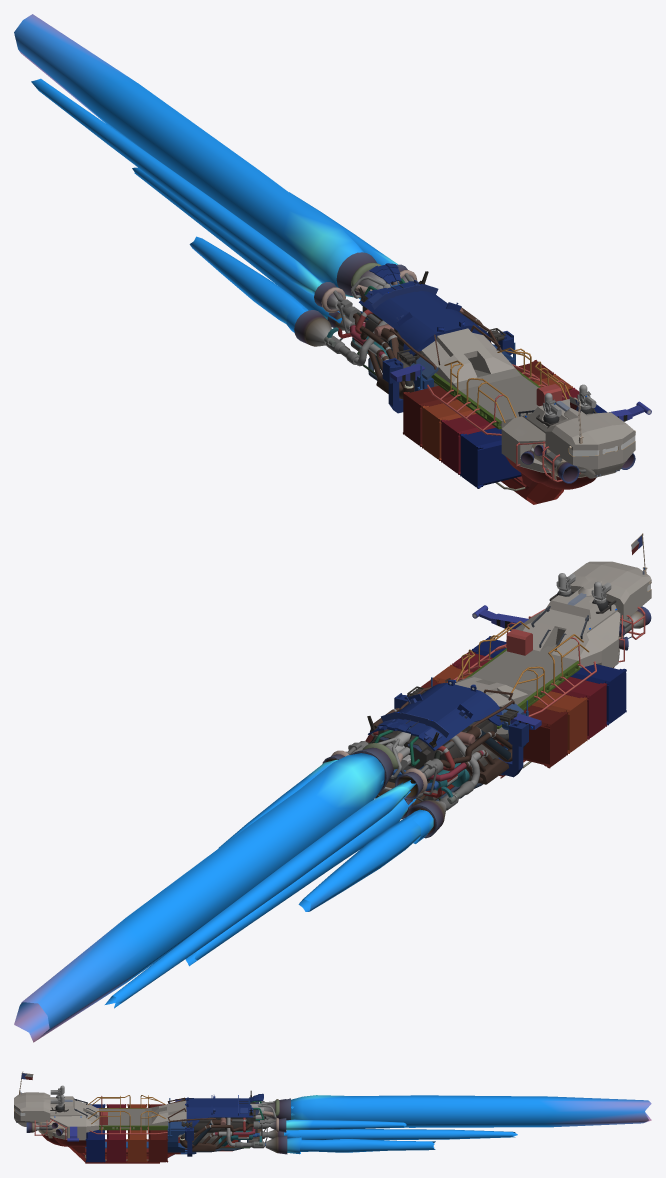
File: MED_FBL_Packlite_LowRes.fbx
3 views of the same model, one above another, from view 1: azimuth 30°, elevation 25°; view 2: azimuth 150°, elevation 25°; view 3: azimuth 270°, elevation 25° (orthographic). The views are drawn at different scales.
Visible parts, largest first — view 1: mesh_hull, mesh_vfx_engine_flares; view 2: mesh_hull, mesh_vfx_engine_flares; view 3: mesh_vfx_engine_flares, mesh_hull.
Part boxes in pixels (x1,y1,x2,y2): mesh_hull: [294, 252, 651, 504]; mesh_vfx_engine_flares: [14, 14, 397, 332]; mesh_hull: [322, 533, 651, 838]; mesh_vfx_engine_flares: [14, 753, 433, 1042]; mesh_vfx_engine_flares: [284, 1095, 651, 1154]; mesh_hull: [14, 1071, 290, 1163].
Size of the model in its own units: 20.77 by 19.05 by 134.
